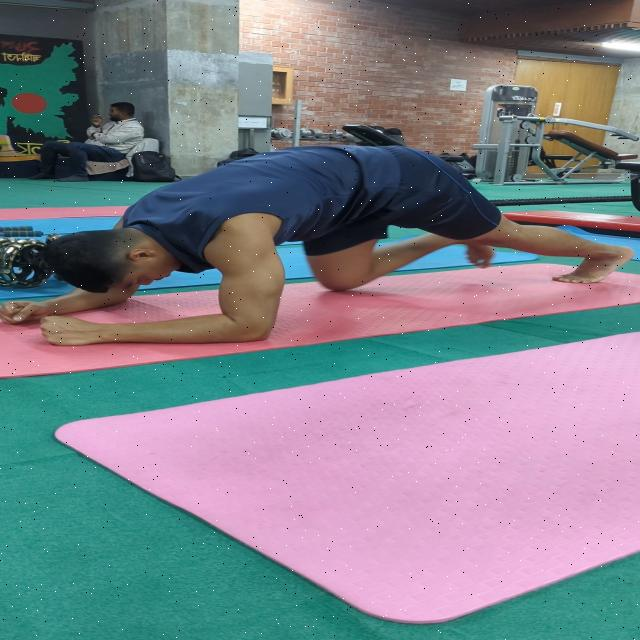Normal_MountainClimbers: (0, 128, 640, 382)
